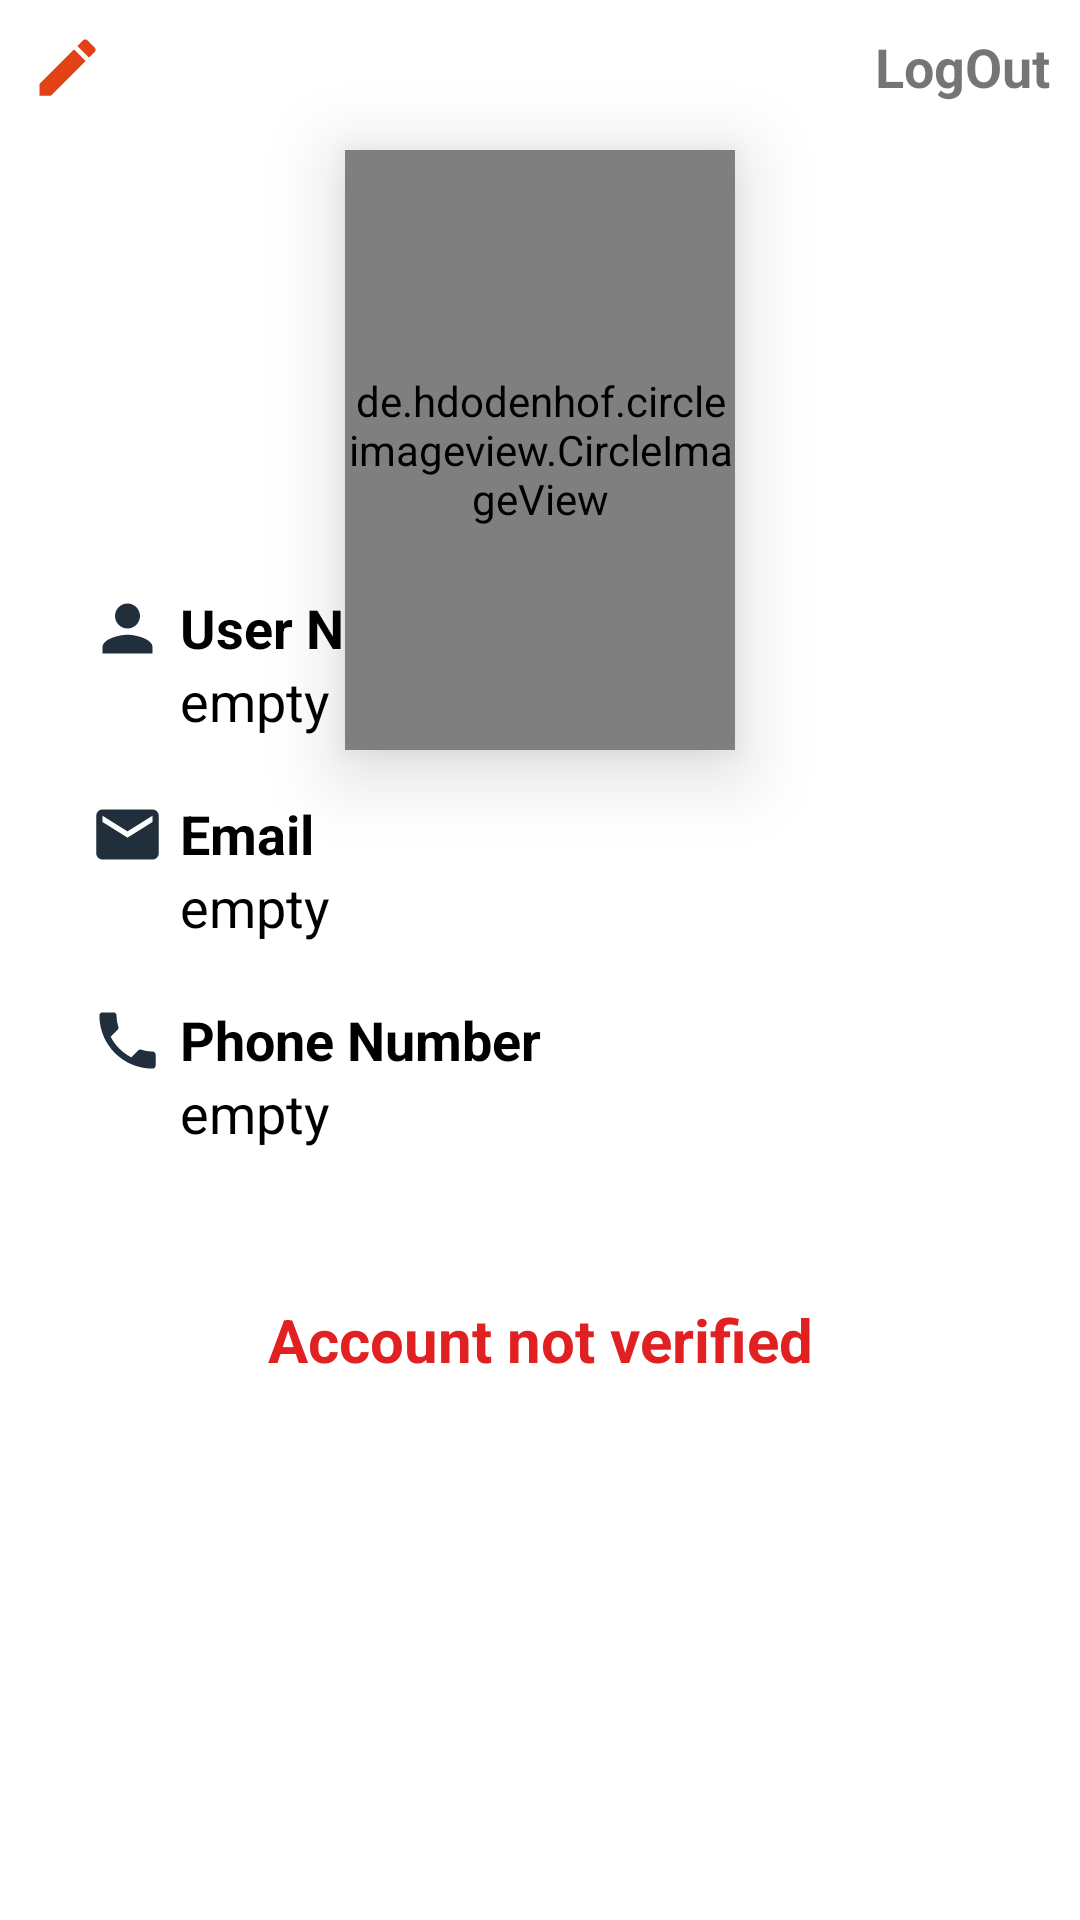

Named icons in this screenshot (1080w x 1920h) and their bounding boxes, (x1, y1, x2, y2):
edit: (39, 39, 96, 96)
person: (102, 603, 153, 654)
